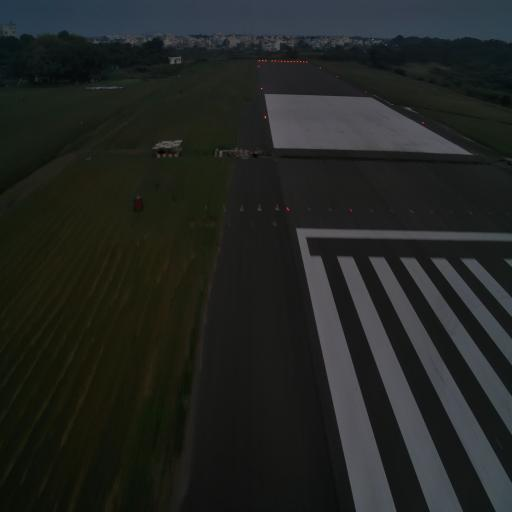off: (502, 209, 510, 220), (389, 204, 394, 216), (487, 210, 492, 222), (326, 206, 333, 214), (306, 204, 312, 213), (368, 206, 374, 215), (449, 207, 454, 217), (430, 207, 434, 217)
on: (256, 201, 262, 216), (273, 201, 279, 214), (284, 202, 290, 215), (238, 204, 245, 212), (222, 204, 227, 214), (409, 210, 415, 217), (349, 207, 353, 217)
